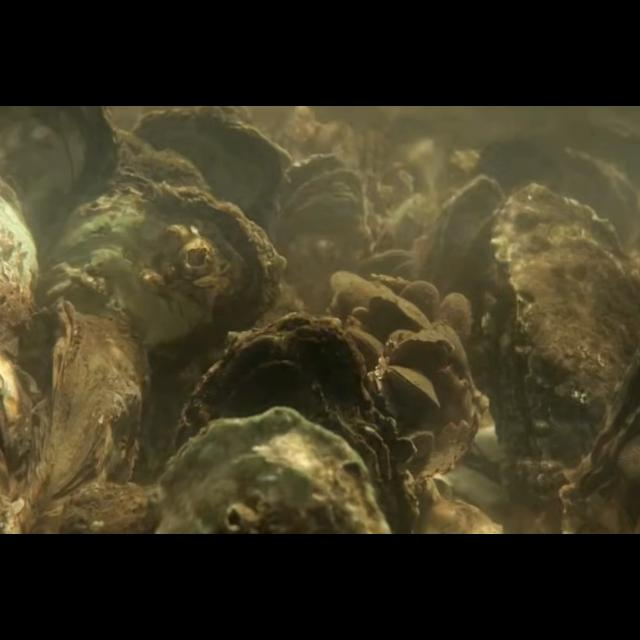Oyster-Closed: (54, 180, 288, 458), (177, 312, 417, 534), (154, 406, 392, 534), (21, 298, 150, 534), (423, 174, 507, 328), (368, 293, 432, 329), (392, 337, 456, 369), (400, 280, 440, 328), (438, 292, 472, 342)
Oyster-Open: (480, 184, 640, 481), (268, 154, 364, 296), (385, 365, 439, 407)
